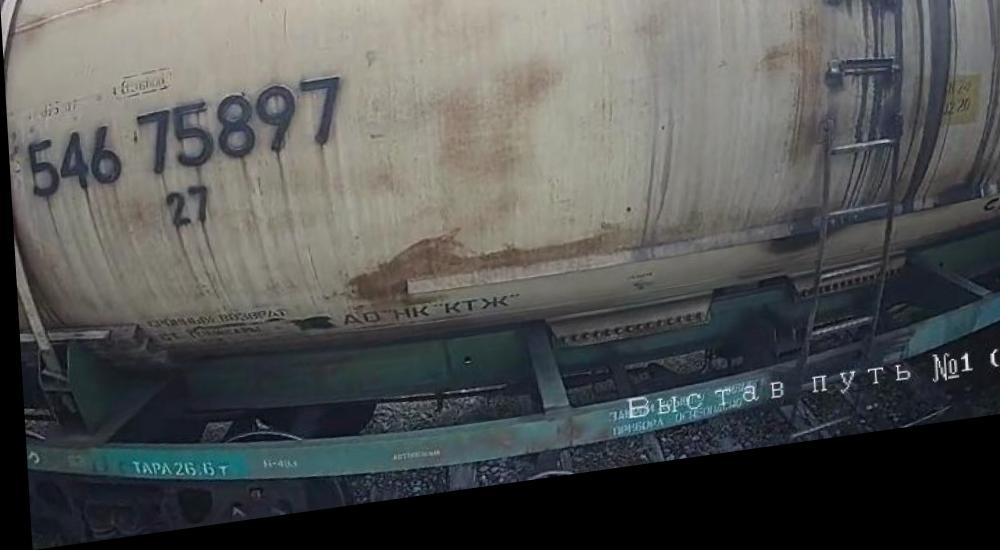Wagon-number: (21, 79, 348, 207)
